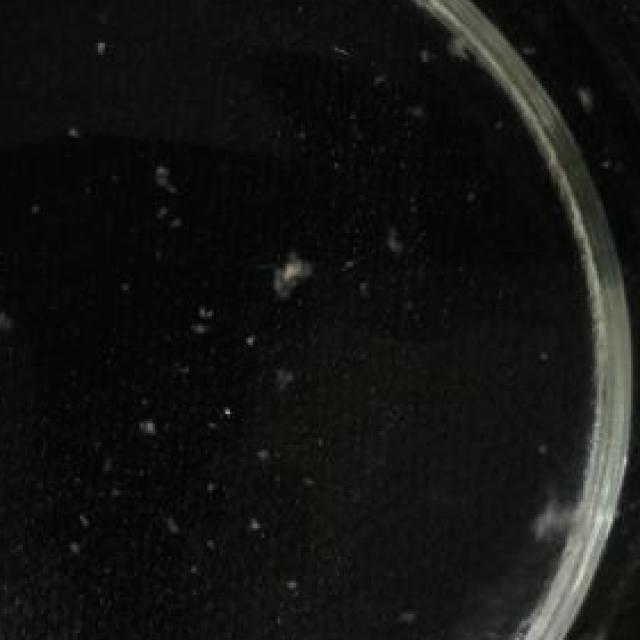Microplastic: (533, 490, 597, 547), (271, 238, 321, 307)
